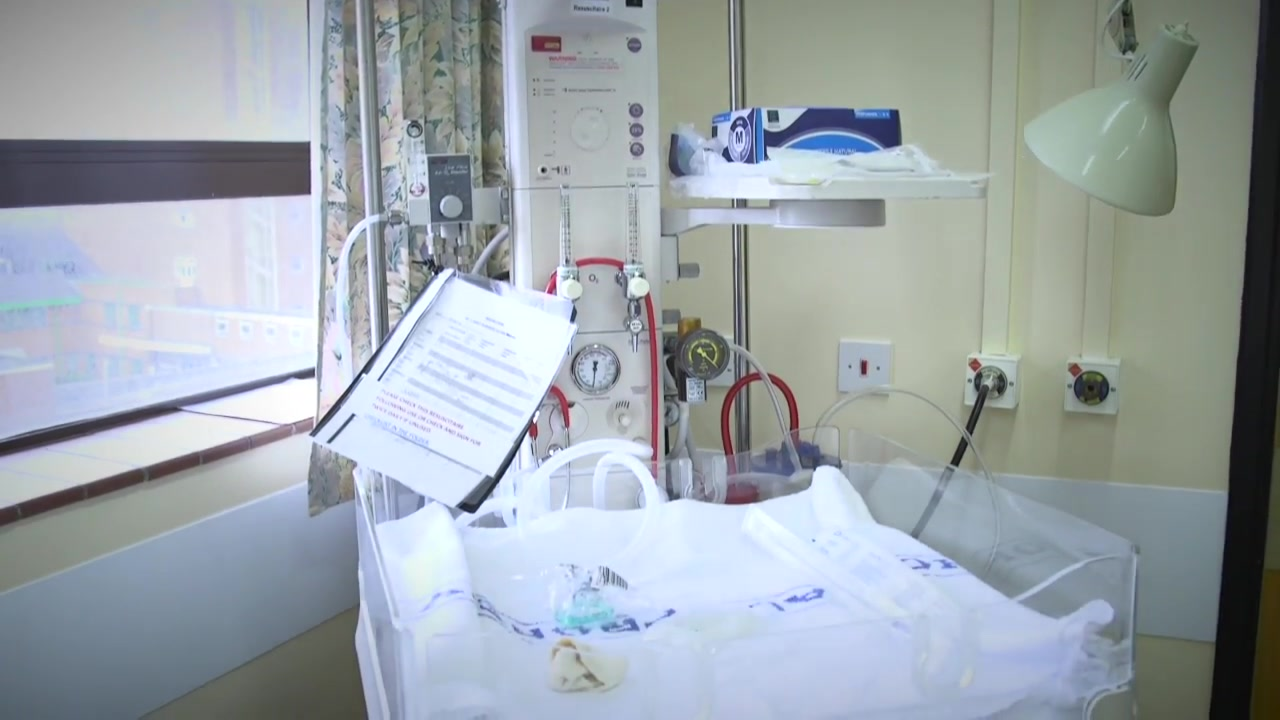breathing_tube: (468, 436, 663, 565)
curtain: (306, 1, 506, 518)
panda_baby_warmer: (354, 1, 1131, 718)
